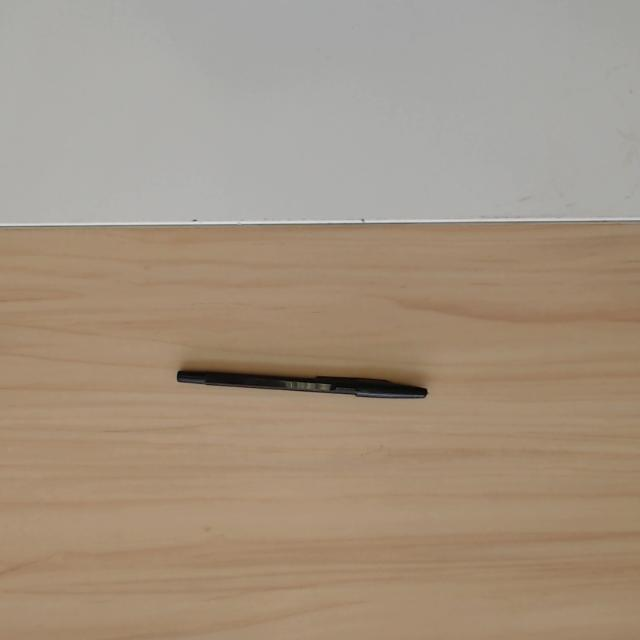Pulpen-Hitam: (177, 369, 431, 401)
